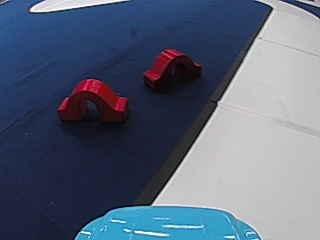bridge: (54, 75, 133, 124), (140, 44, 202, 92)
